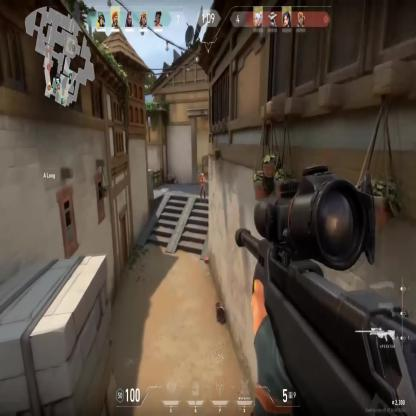enemy: (199, 172, 206, 203)
enemy_head: (200, 172, 204, 180)
